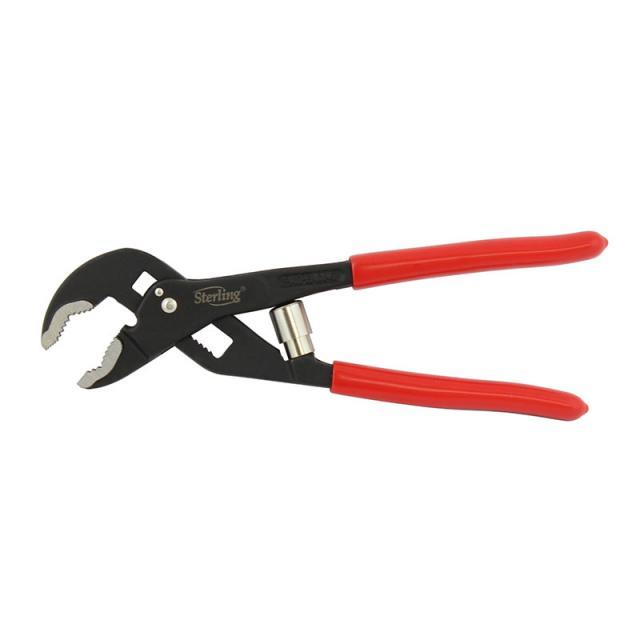pliers: (34, 226, 610, 429)
